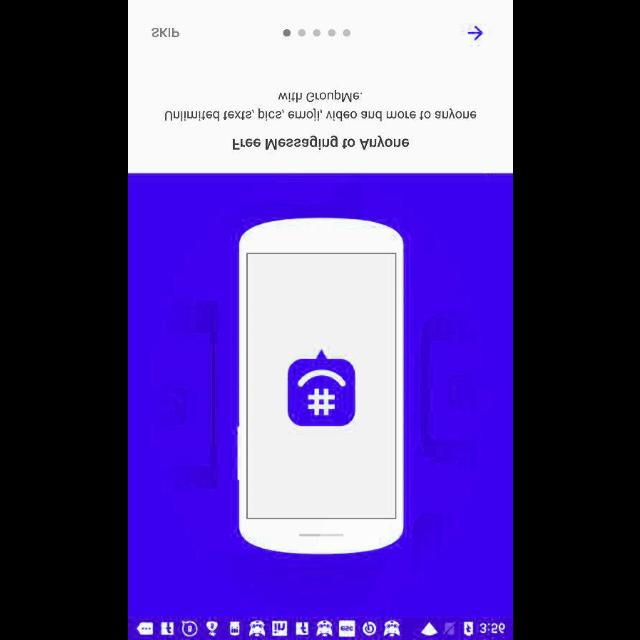icon: (468, 24, 482, 41)
image: (128, 174, 512, 616)
pageindicator: (282, 29, 351, 37)
text: (164, 90, 476, 122), (231, 135, 409, 151), (150, 27, 180, 37)
uppertaskbar: (128, 617, 512, 639)
